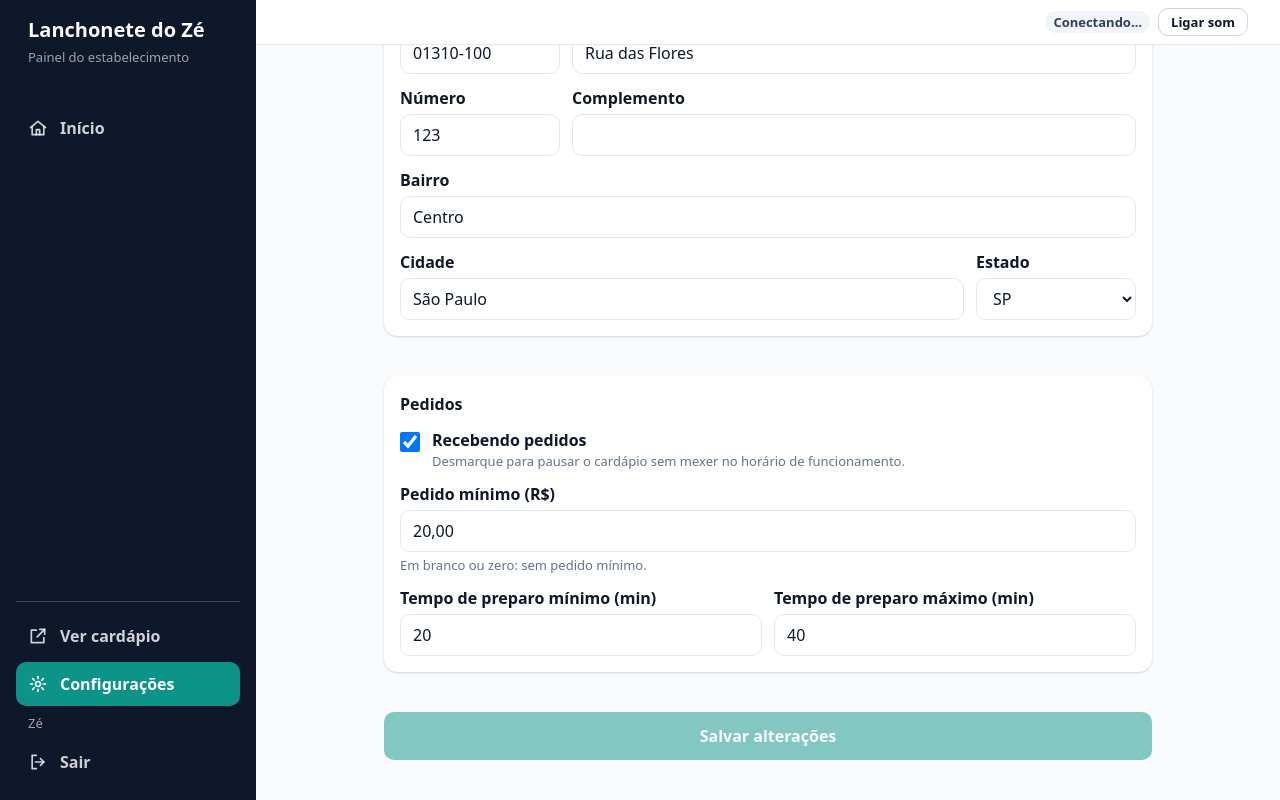
tela de configurações › corrigir o tempo mínimo tira o erro que estava no máximo
(page scrolled)
Replace the text in the field labelled "Tempo de preparo mínimo (min)" with "60" at (581, 635), box [400,614,762,656]
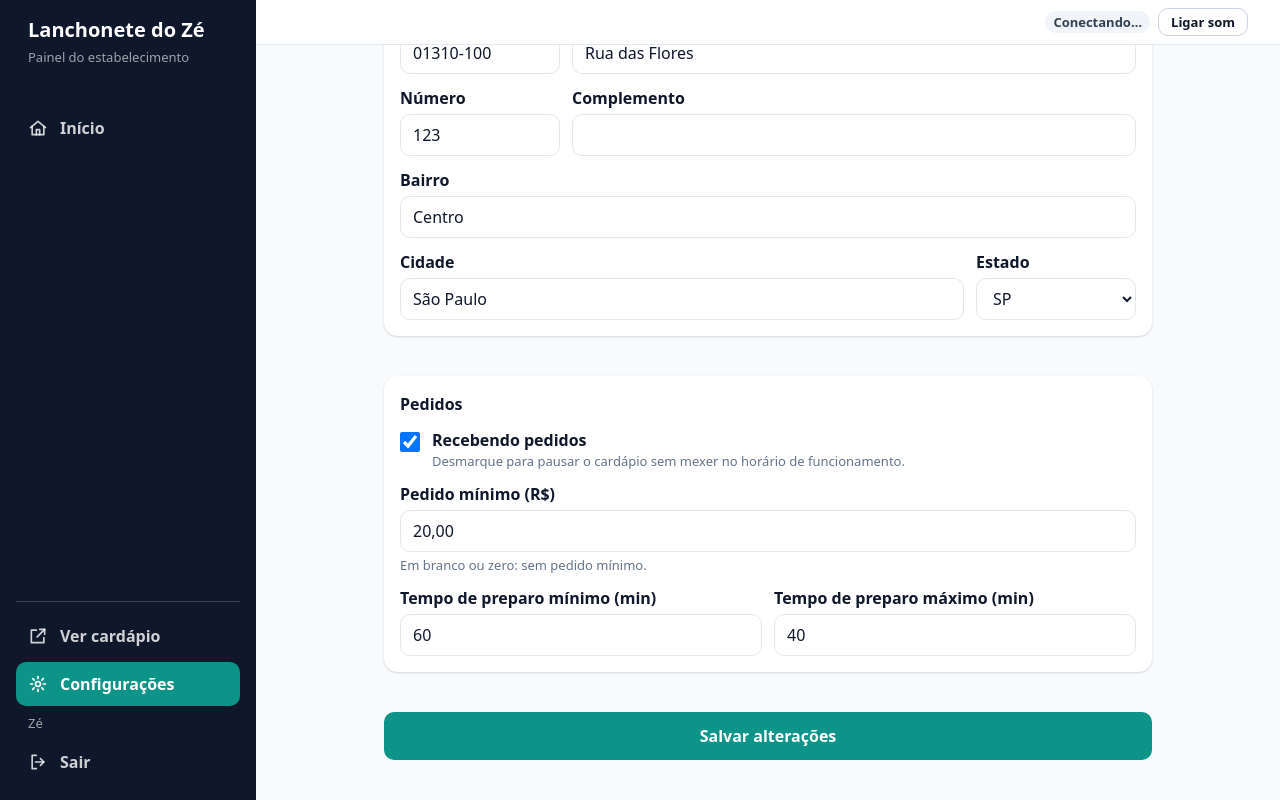
Click the button "Salvar alterações" at (768, 736), box [384,712,1152,760]
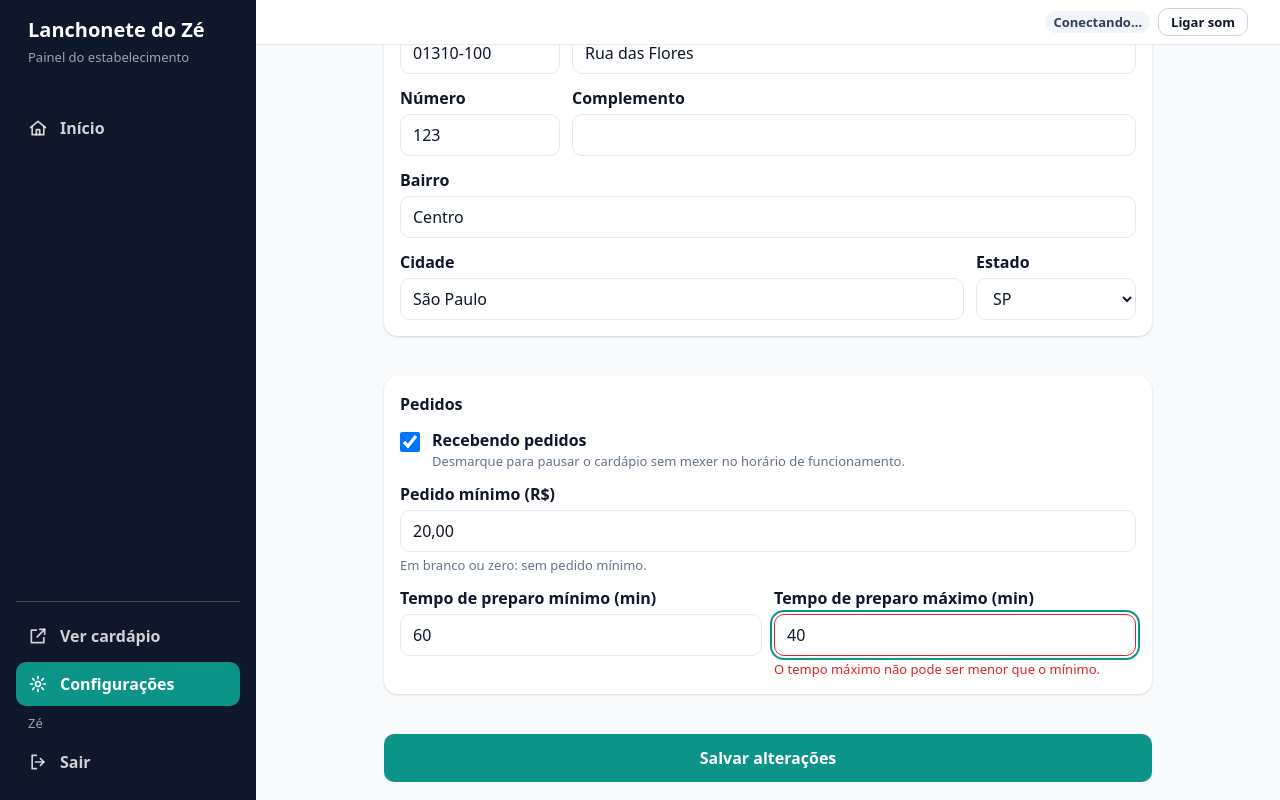
Expected: the text "O tempo máximo não pode ser menor que o mínimo." is shown, [774,660,1136,678]
Replace the text in the field labelled "Tempo de preparo mínimo (min)" with "15" at (581, 635), box [400,614,762,656]
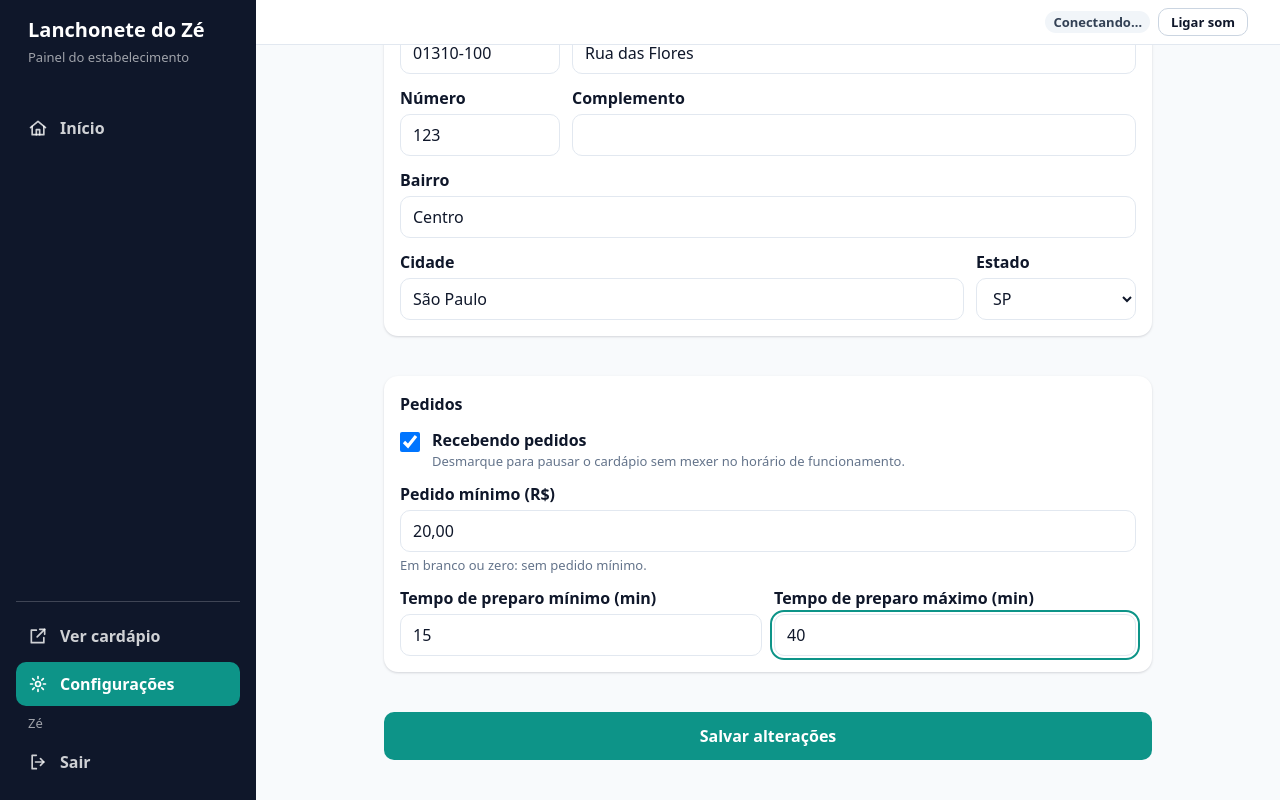
Expected: the text "O tempo máximo não pode ser menor que o mínimo." is gone
